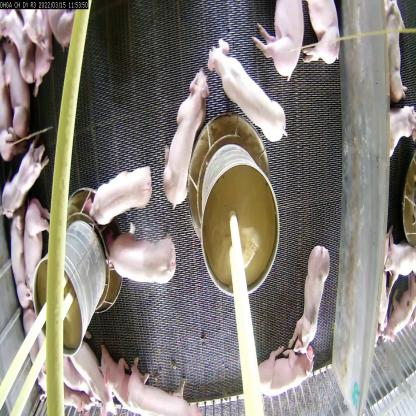Pig: (204, 37, 290, 156), (161, 67, 217, 209), (82, 158, 152, 232), (0, 140, 60, 226), (103, 226, 175, 297), (291, 240, 332, 364), (252, 0, 306, 80), (300, 0, 352, 78), (125, 365, 205, 415), (256, 340, 322, 400), (28, 202, 59, 312), (62, 346, 111, 415), (0, 44, 31, 150), (8, 219, 32, 310), (95, 352, 127, 406)
